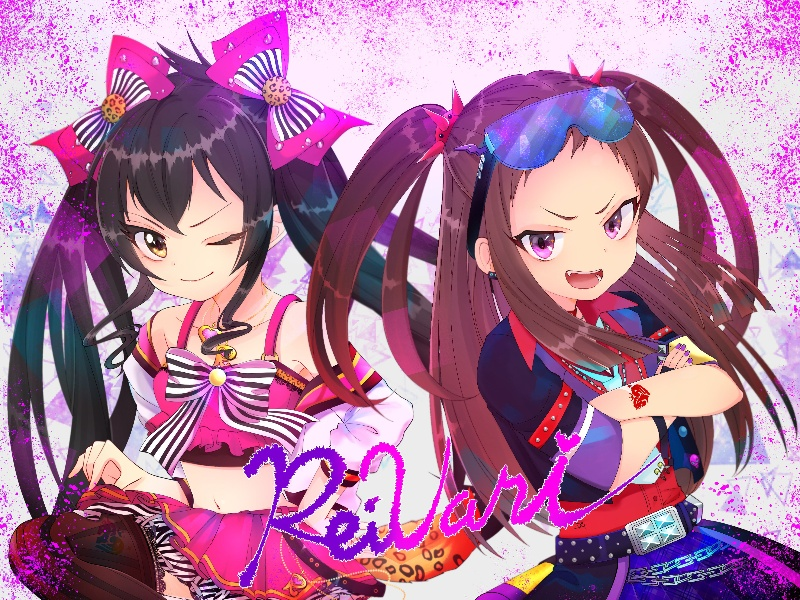dress: (61, 469, 375, 600)
person: (71, 99, 309, 311), (465, 106, 659, 318)
